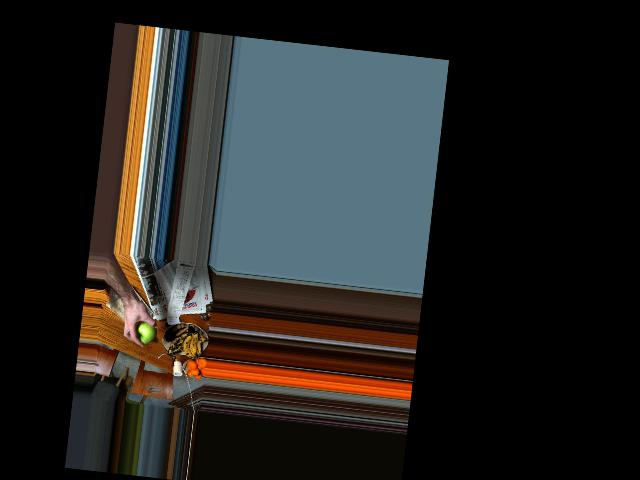apple: (131, 316, 158, 348)
